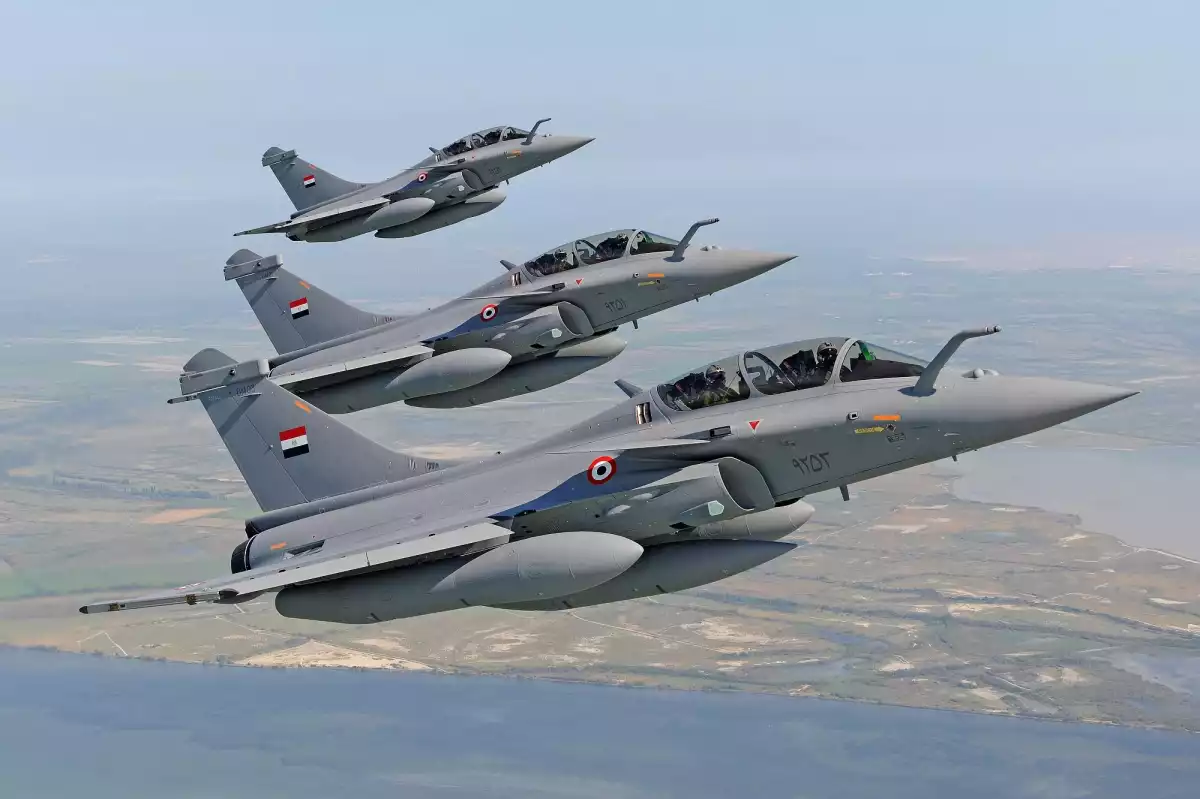Rafale: (72, 322, 1148, 627), (192, 219, 807, 416), (233, 121, 586, 246)
